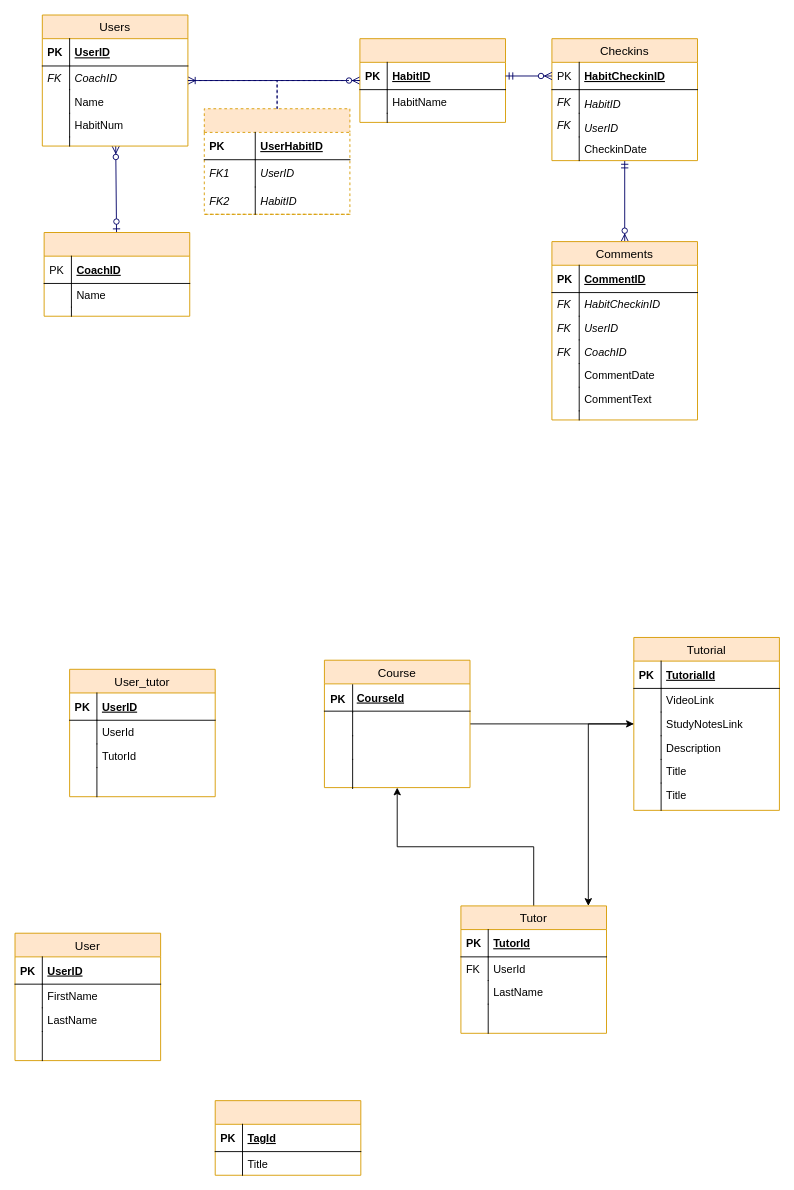
Some shapes in this 794 by 1190 pixel diagram are drawn without their labels. Here are the shapes that lost their labels. From the top down, the box of each, then its label:
(359, 38, 506, 122): Habits
(203, 108, 350, 214): UserHabits
(43, 232, 190, 316): Coaches
(214, 1100, 361, 1175): Tags
